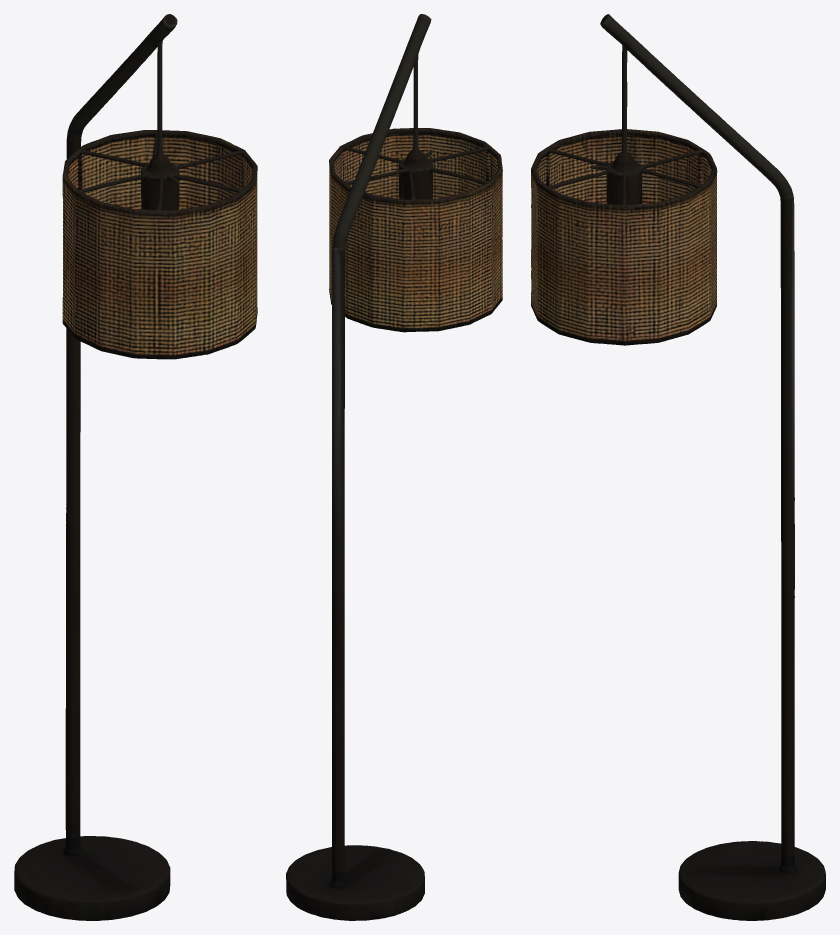
File: mesh-cantilever-lamp.glb
3 renders of one model, left to right at view 1: azimuth 30°, elevation 25°; view 2: azimuth 150°, elevation 25°; view 3: azimuth 270°, elevation 25°, orthographic. The views are drawn at different scales.
Visible parts, largest first — view 1: world; view 2: world; view 3: world.
Part boxes in pixels (x1,y1,x2,y2): world: [14, 14, 257, 920]; world: [286, 14, 502, 920]; world: [531, 14, 825, 920].
Bounding box in the file's own units: 0.192 × 1 × 0.3057.
1 material, 1 textured.
